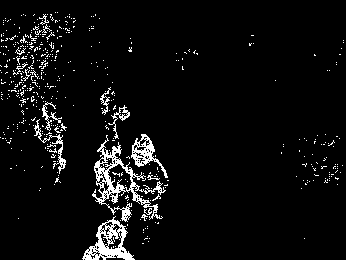person: (125, 130, 170, 244), (91, 140, 134, 224), (35, 102, 68, 184)
